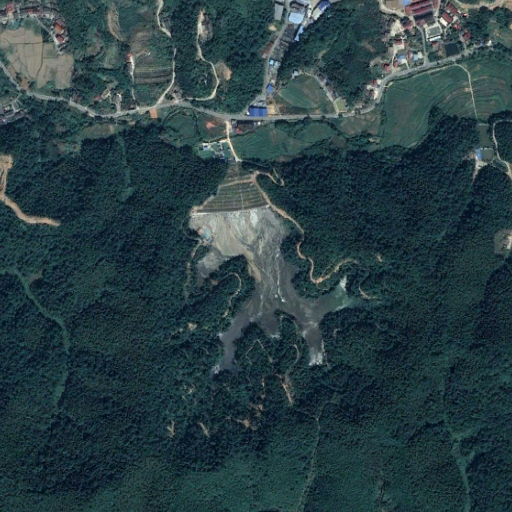tp: (193, 160, 364, 378)
